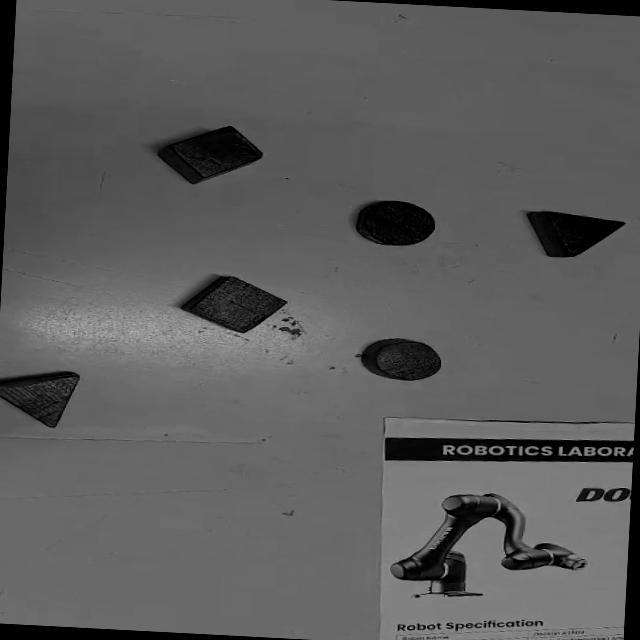bcircle: (355, 198, 439, 248)
bcube: (182, 272, 292, 336)
btriangle: (526, 210, 629, 262)
rcircle: (364, 337, 444, 382)
rcube: (155, 120, 269, 190)
rtriangle: (0, 367, 83, 429)
